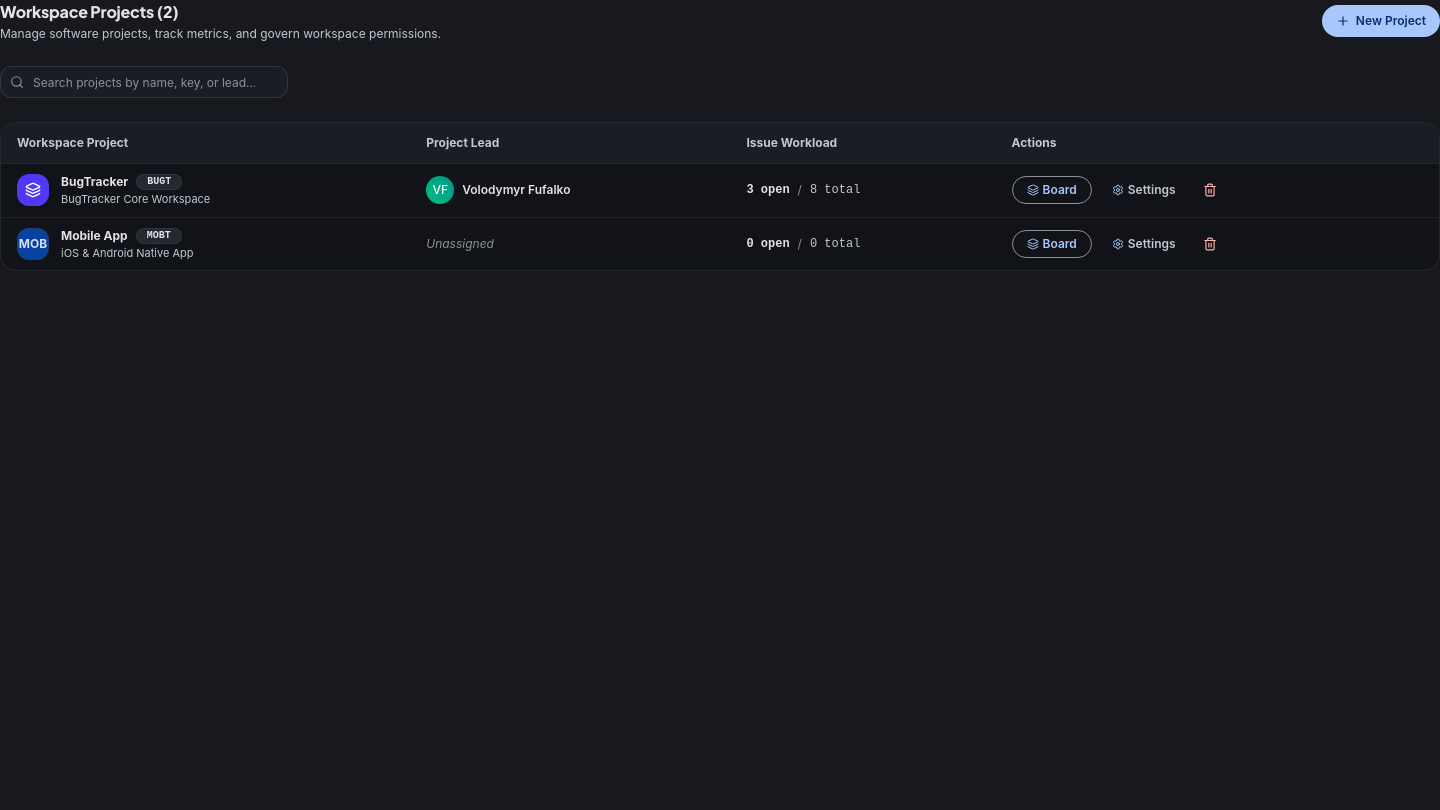
Test: AdminProjectsTab Component › opens and closes create project modal
Click the button "New Project": [1381, 21] box 1322,5 -> 1439,37
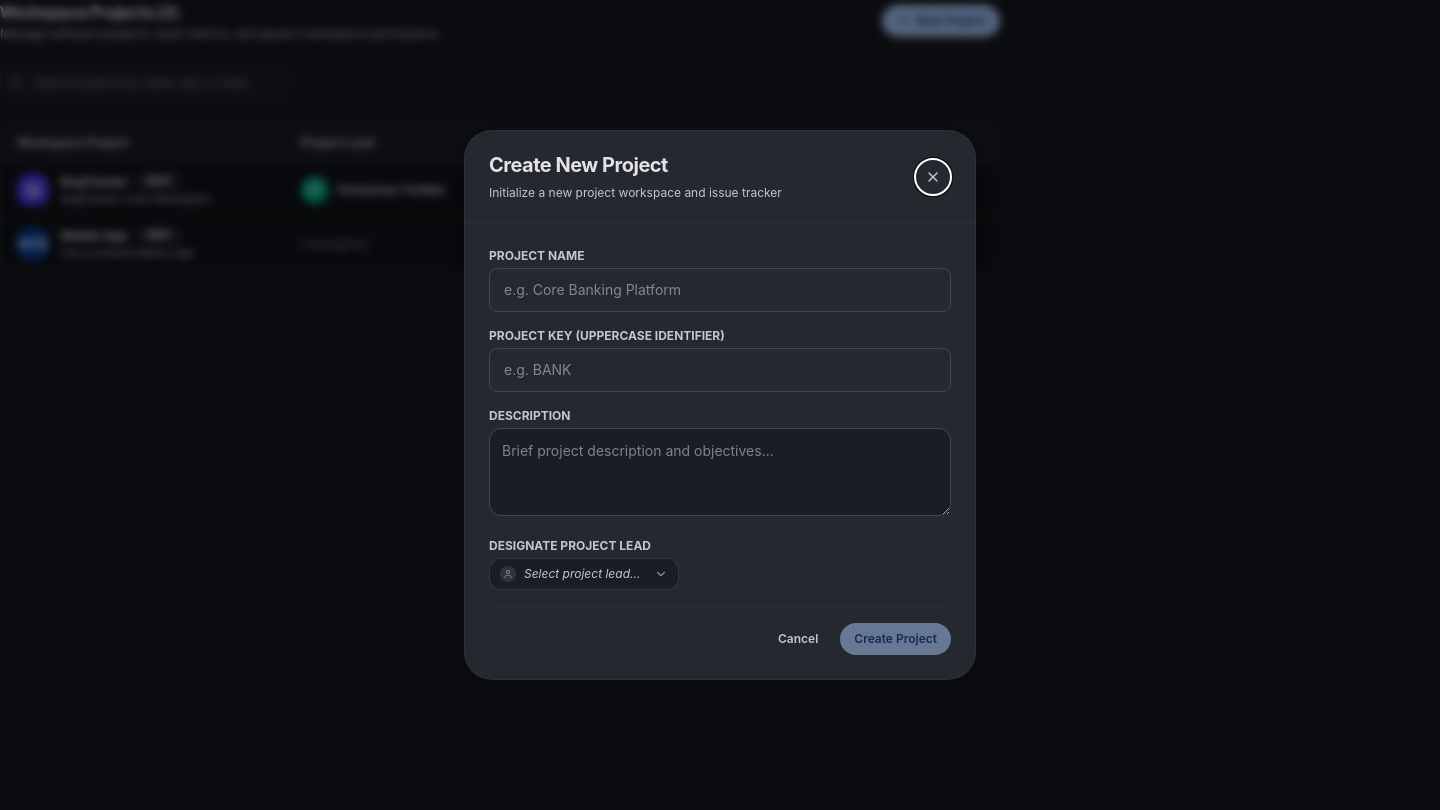
Now the text "Create New Project" is shown, box 489,153 -> 668,177
Now the field with placeholder "e.g. Core Banking Platform" is shown, box 489,268 -> 951,312
